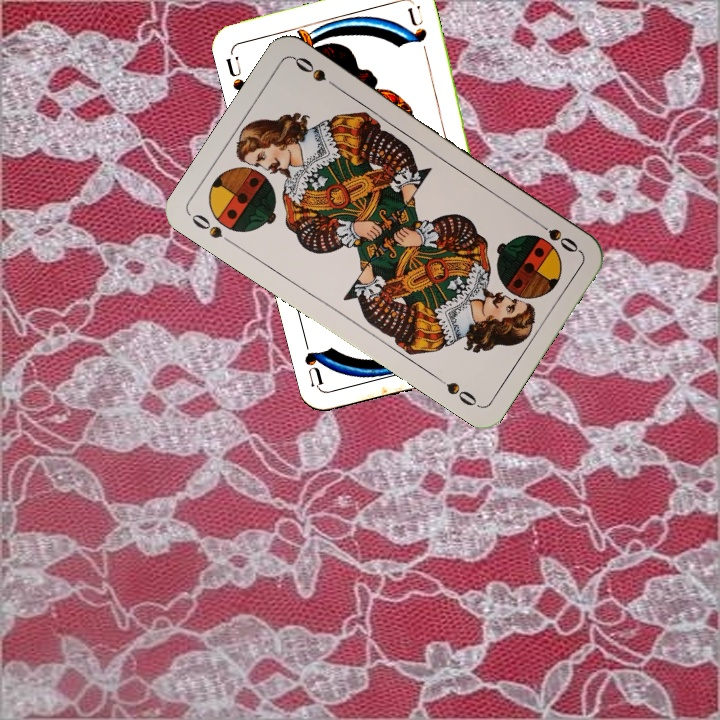SO: (530, 215, 583, 255), (187, 209, 239, 249)
SU: (221, 52, 248, 94)
